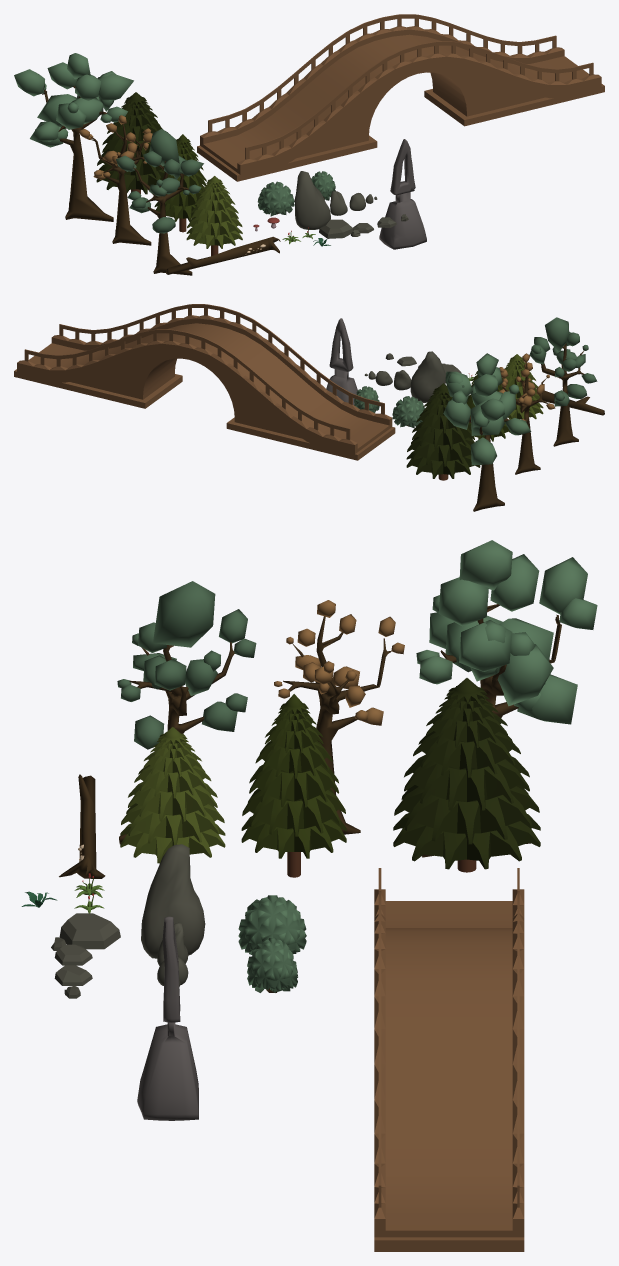
The model's file is forest_20210127.fbx.
3 renders of one model, top to bottom at view 1: azimuth 30°, elevation 25°; view 2: azimuth 150°, elevation 25°; view 3: azimuth 270°, elevation 25°, orthographic. The views are drawn at different scales.
Visible parts, largest first — view 1: bridge_railing, dead tree.001, tree.001, Tree.002, Tree, shrine, dead tree, Tree.001, stone5, fallen tree, bush, rocks1 (+1 smaller); view 2: bridge_railing, dead tree.001, Tree.002, tree.001, dead tree, shrine, stone5, Tree, bush, fallen tree, bush.001, Tree.001 (+1 smaller); view 3: bridge_railing, dead tree.001, Tree.002, Tree.001, tree.001, Tree, shrine, dead tree, stone5, bush, rocks1, bush.001 (+1 smaller).
Part boxes in pixels (x1,y1,x2,y2): bridge_railing: (197, 14, 604, 181); dead tree.001: (14, 53, 133, 221); tree.001: (116, 129, 203, 275); Tree.002: (96, 92, 164, 194); Tree: (186, 176, 242, 256); shrine: (379, 139, 426, 249); dead tree: (79, 115, 152, 245); Tree.001: (154, 134, 206, 232); stone5: (294, 171, 330, 229); fallen tree: (166, 236, 280, 274); bush: (257, 181, 294, 216); rocks1: (319, 219, 373, 238); bridge_railing: (14, 304, 395, 460); dead tree.001: (443, 353, 531, 511); Tree.002: (406, 383, 480, 480); tree.001: (529, 317, 597, 446); dead tree: (499, 353, 555, 474); shrine: (326, 318, 357, 404); stone5: (410, 351, 445, 402); Tree: (500, 354, 543, 419); bush: (392, 396, 424, 428); fallen tree: (536, 388, 604, 415); bush.001: (354, 386, 379, 412); Tree.001: (467, 371, 511, 441); bridge_railing: (374, 868, 524, 1251); dead tree.001: (416, 540, 597, 857); Tree.002: (393, 678, 540, 872); Tree.001: (241, 694, 346, 877); tree.001: (117, 581, 256, 843); Tree: (120, 727, 225, 863); shrine: (137, 916, 198, 1120); dead tree: (274, 600, 404, 834); stone5: (141, 844, 205, 958); bush: (238, 895, 306, 954); rocks1: (51, 913, 120, 965); bush.001: (247, 938, 297, 992).
Bounding box in the file's own units: 1307 × 425 × 645.
